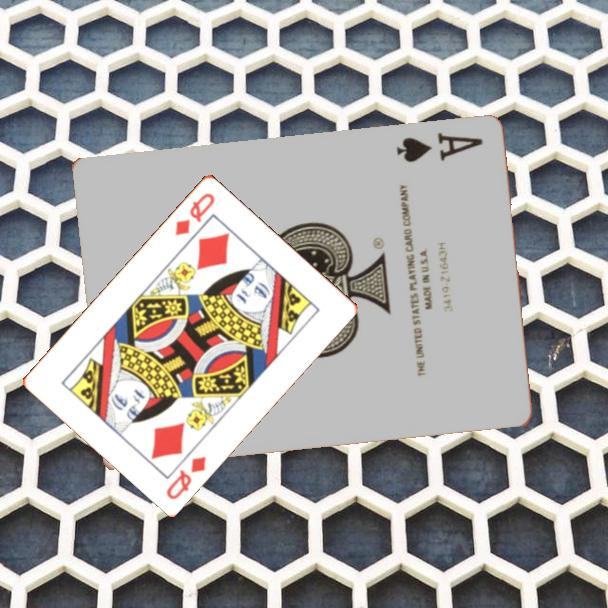d12: (171, 189, 218, 238), (163, 452, 209, 502)
s01: (392, 129, 486, 166)
